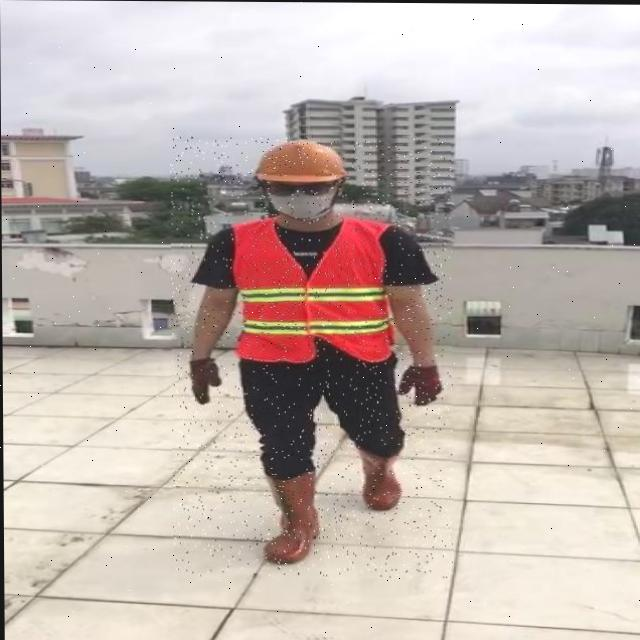Gloves: (397, 363, 443, 405), (190, 356, 222, 404)
Helmet: (255, 138, 349, 221)
Safety-Boot: (263, 465, 321, 563), (357, 445, 403, 510)
Safety-Vest: (230, 214, 400, 365)
